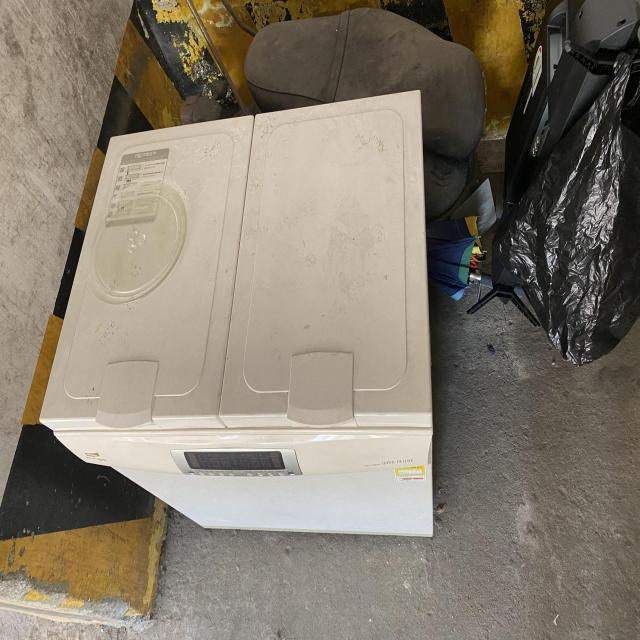refrigerator: (37, 89, 434, 538)
